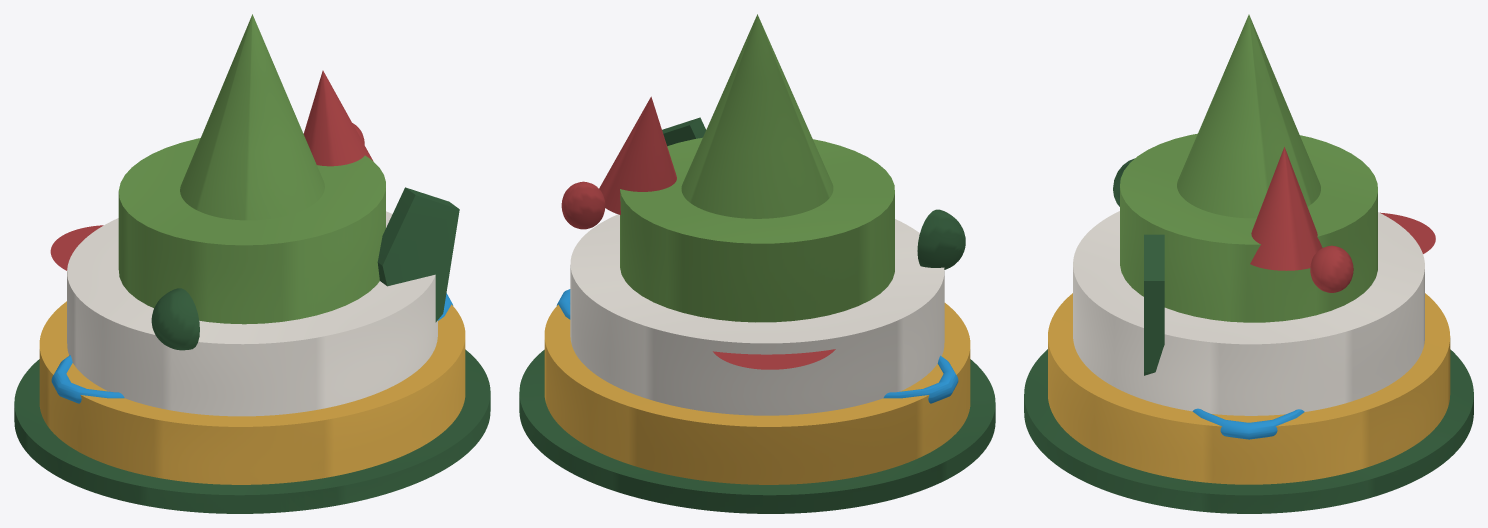
Rendered from 0636_地貌图鉴_河流地貌.glb.
The picture shows the model from 3 angles, left to right: view 1: azimuth 30°, elevation 25°; view 2: azimuth 150°, elevation 25°; view 3: azimuth 270°, elevation 25°; orthographic projection.
Visible parts, largest first — view 1: card_0636; view 2: card_0636; view 3: card_0636.
Part boxes in pixels (box(x1,y1,x2,y2)): card_0636: box(14, 14, 490, 513); card_0636: box(519, 14, 995, 513); card_0636: box(1024, 14, 1473, 513).
Size of the model in its own units: 1.09 by 1 by 1.02.
